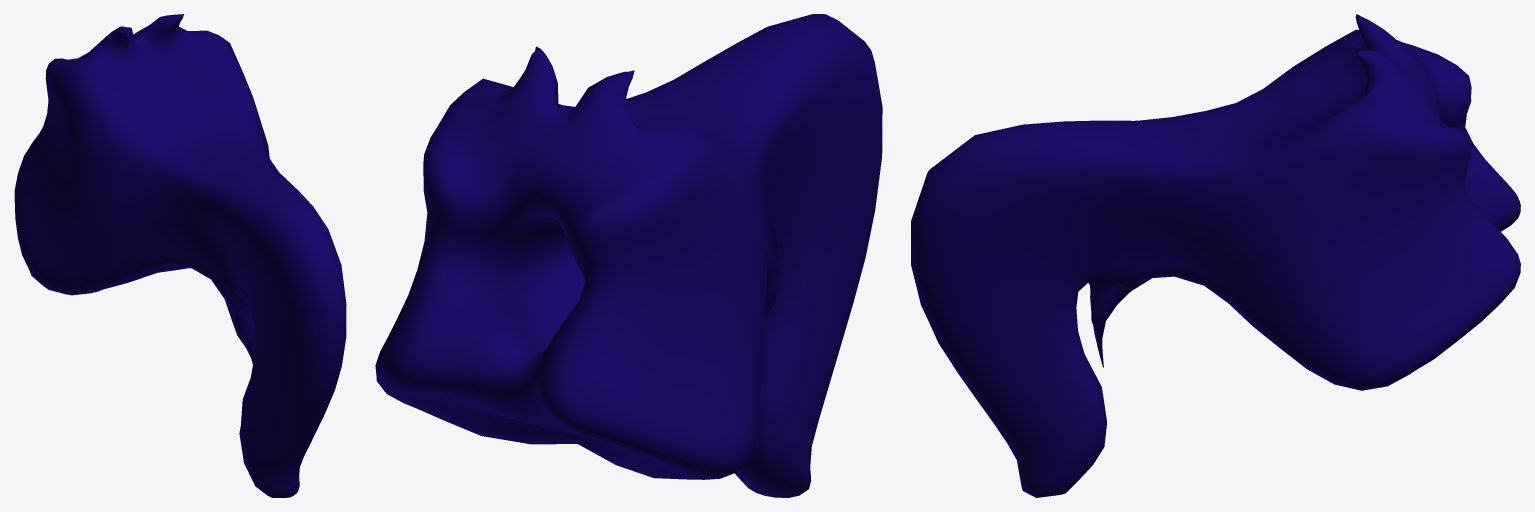
The model's file is ArmaSonho.fbx.
The picture shows the model from 3 angles, left to right: view 1: azimuth 30°, elevation 25°; view 2: azimuth 150°, elevation 25°; view 3: azimuth 270°, elevation 25°; orthographic projection. The views are drawn at different scales.
Parts seen in each view (by area): view 1: Retopo_Armasonho; view 2: Retopo_Armasonho; view 3: Retopo_Armasonho.
Boxes of the visible parts, x1,y1,x2,y2 form: Retopo_Armasonho: [14, 14, 346, 497]; Retopo_Armasonho: [375, 14, 882, 497]; Retopo_Armasonho: [911, 14, 1520, 497].
Bounding box in the file's own units: 167 × 270 × 324.
